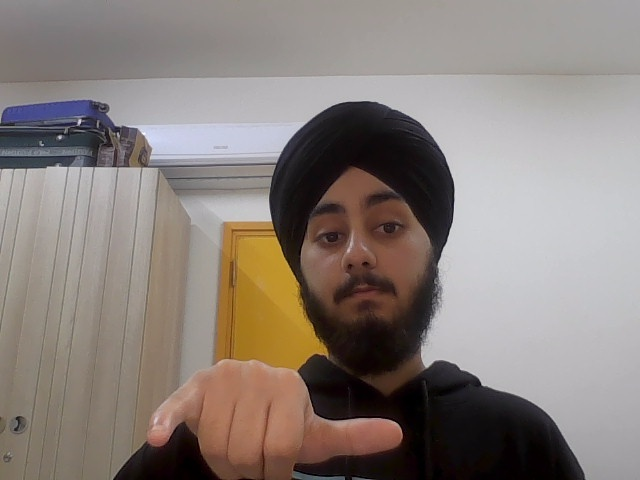Same: (147, 350, 411, 480)
